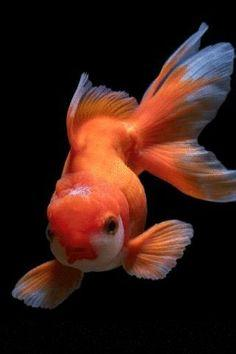goldfish: (25, 80, 222, 287)
